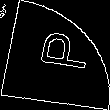P_W: (22, 32, 88, 78)
